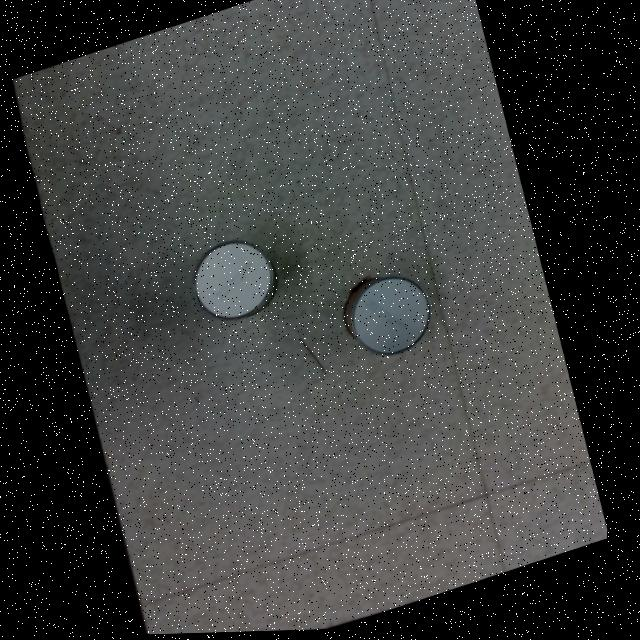canSnack: (348, 277, 435, 356), (198, 239, 281, 319)
